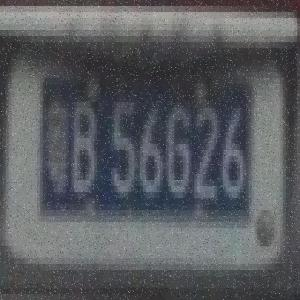Plate: (43, 76, 251, 225)
